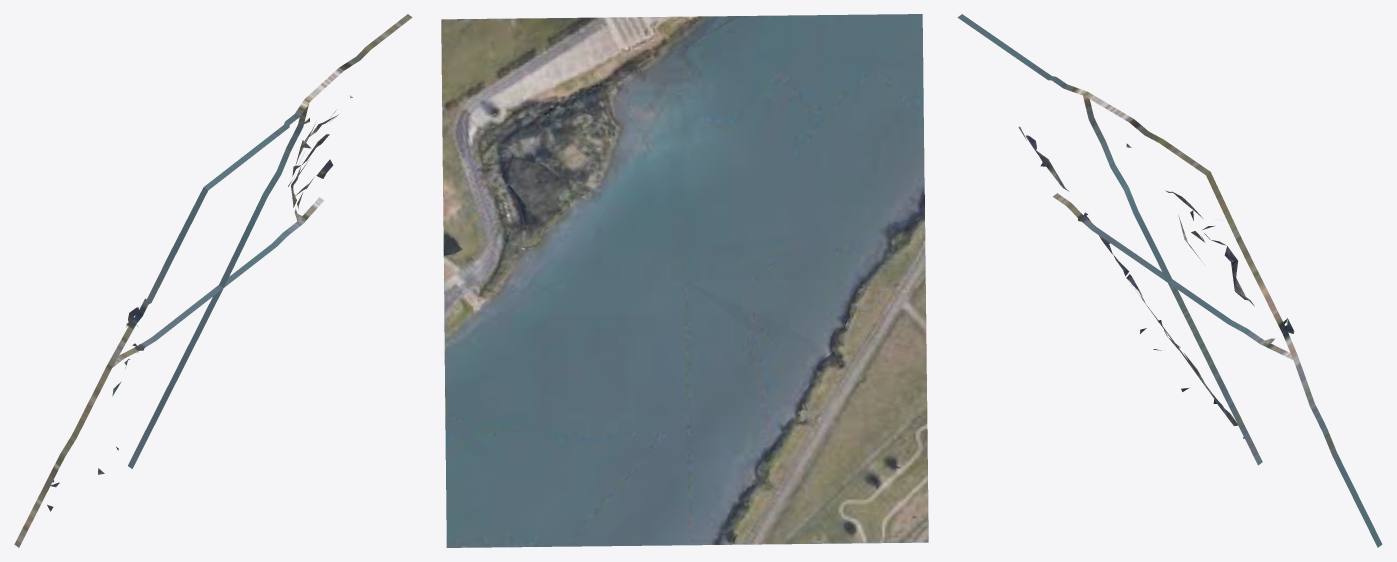
The picture shows the model from 3 angles, left to right: view 1: azimuth 30°, elevation 25°; view 2: azimuth 150°, elevation 25°; view 3: azimuth 270°, elevation 25°; orthographic projection. The views are drawn at different scales.
Size of the model in its own units: 304 by 280 by 258.
1 material, 1 textured.
